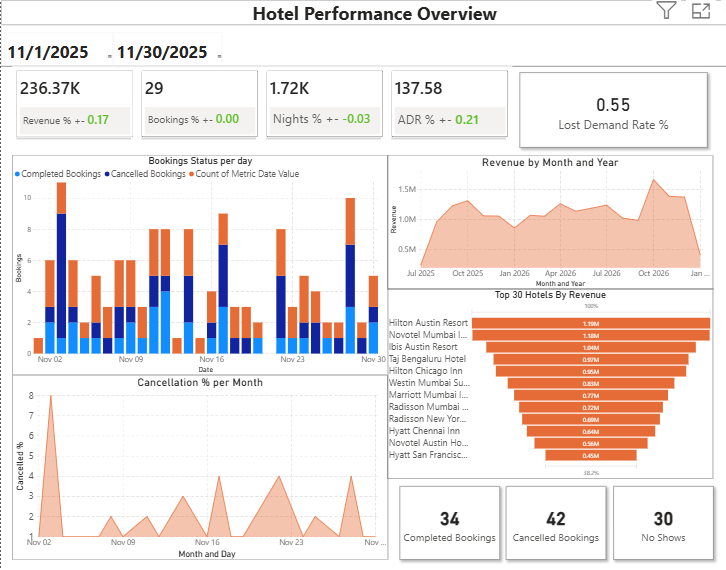

What the dashboard file says about the page in this screenshot:
{"tool":"powerbi","page":{"name":"Page 1","canvas":[3000,3000],"ordinal":0},"visuals":[{"type":"textbox","box":[0,0,3000,100],"z":0},{"type":"slicer","fields":{"Values":["VW_DATE_DIM.DATE_DAY"]},"box":[0,100,3000,166.7],"z":1000},{"type":"cardVisual","fields":{"Data":["VW_KPI_STAY_DAILY.Total Revenue"]},"box":[43.3,266.7,500,300],"z":2000},{"type":"cardVisual","fields":{"Data":["VW_KPI_STAY_DAILY.Total Bookings"]},"box":[546.7,266.7,500,300],"z":3000},{"type":"cardVisual","fields":{"Data":["VW_KPI_STAY_DAILY.Total Nights"]},"box":[1046.7,266.7,500,300],"z":4000},{"type":"cardVisual","fields":{"Data":["VW_KPI_STAY_DAILY.ADR"]},"box":[1543.3,266.7,500,300],"z":5000},{"type":"funnel","title":"Top 30 Hotels By Revenue","fields":{"Category":["VW_KPI_STAY_DAILY_HOTEL.HOTEL_NAME"],"Y":["Sum(VW_KPI_STAY_DAILY_HOTEL.NET_REVENUE)"]},"box":[1546.7,1156.7,1303.3,760],"z":10000},{"type":"columnChart","title":"Bookings Status per day","fields":{"Category":["VW_KPI_BOOKING_STATUS_DAILY.METRIC_DATE"],"Y":["VW_KPI_BOOKING_STATUS_DAILY.Completed Bookings","VW_KPI_BOOKING_STATUS_DAILY.Cancelled Bookings","CountNonNull(VW_KPI_BOOKING_STATUS_DAILY.Metric Date Value)"]},"box":[43.3,620,1503.3,880],"z":11001},{"type":"lineChart","title":"Revenue by Month and Year","fields":{"Category":["VW_KPI_STAY_DAILY_HOTEL.METRIC_DATE.Variation.Date Hierarchy.Year","VW_KPI_STAY_DAILY_HOTEL.METRIC_DATE.Variation.Date Hierarchy.Month"],"Y":["Sum(VW_KPI_STAY_DAILY_HOTEL.TOTAL_REVENUE_ACTUAL)"]},"box":[1546.7,620,1303.3,536.7],"z":11002},{"type":"lineChart","title":"Cancellation % per Month","fields":{"Category":["VW_KPI_BOOKING_STATUS_DAILY.Metric Date Value.Variation.Date Hierarchy.Year","VW_KPI_BOOKING_STATUS_DAILY.Metric Date Value.Variation.Date Hierarchy.Month","VW_KPI_BOOKING_STATUS_DAILY.Metric Date Value.Variation.Date Hierarchy.Day"],"Y":["VW_KPI_BOOKING_STATUS_DAILY.Cancelled Bookings"]},"box":[43.3,1500,1503.3,740],"z":11003},{"type":"card","fields":{"Values":["VW_KPI_BOOKING_STATUS_DAILY.Completed Bookings"]},"box":[1593.3,1946.7,400,293.3],"z":11004},{"type":"card","fields":{"Values":["VW_KPI_BOOKING_STATUS_DAILY.No Shows"]},"box":[2450,1946.7,400,293.3],"z":11005},{"type":"card","fields":{"Values":["VW_KPI_BOOKING_STATUS_DAILY.Cancelled Bookings"]},"box":[2020,1946.7,400,293.3],"z":11006},{"type":"card","fields":{"Values":["VW_KPI_BOOKING_STATUS_DAILY.Lost Demand Rate %"]},"box":[2073.3,290,750,300],"z":11007}]}

Visuals, with their boxes on the page's 3000x3000 design canvas (x1, y1, x2, y2). These are canvas units, not pixel positions in the 726x570 screenshot, which may show the page scaled, cropped or inside an application window:
textbox: BBox(0, 0, 3000, 100)
slicer - VW_DATE_DIM.DATE_DAY: BBox(0, 100, 3000, 267)
cardVisual - VW_KPI_STAY_DAILY.Total Revenue: BBox(43, 267, 543, 567)
cardVisual - VW_KPI_STAY_DAILY.Total Bookings: BBox(547, 267, 1047, 567)
cardVisual - VW_KPI_STAY_DAILY.Total Nights: BBox(1047, 267, 1547, 567)
cardVisual - VW_KPI_STAY_DAILY.ADR: BBox(1543, 267, 2043, 567)
"Top 30 Hotels By Revenue" funnel: BBox(1547, 1157, 2850, 1917)
"Bookings Status per day" columnChart: BBox(43, 620, 1547, 1500)
"Revenue by Month and Year" lineChart: BBox(1547, 620, 2850, 1157)
"Cancellation % per Month" lineChart: BBox(43, 1500, 1547, 2240)
card - VW_KPI_BOOKING_STATUS_DAILY.Completed Bookings: BBox(1593, 1947, 1993, 2240)
card - VW_KPI_BOOKING_STATUS_DAILY.No Shows: BBox(2450, 1947, 2850, 2240)
card - VW_KPI_BOOKING_STATUS_DAILY.Cancelled Bookings: BBox(2020, 1947, 2420, 2240)
card - VW_KPI_BOOKING_STATUS_DAILY.Lost Demand Rate %: BBox(2073, 290, 2823, 590)
